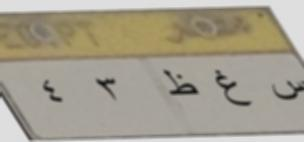3: (94, 73, 122, 106)
4: (38, 78, 66, 107)
Thaa: (158, 66, 199, 102)
ghayn: (209, 66, 252, 111)
seen: (269, 78, 304, 100)
